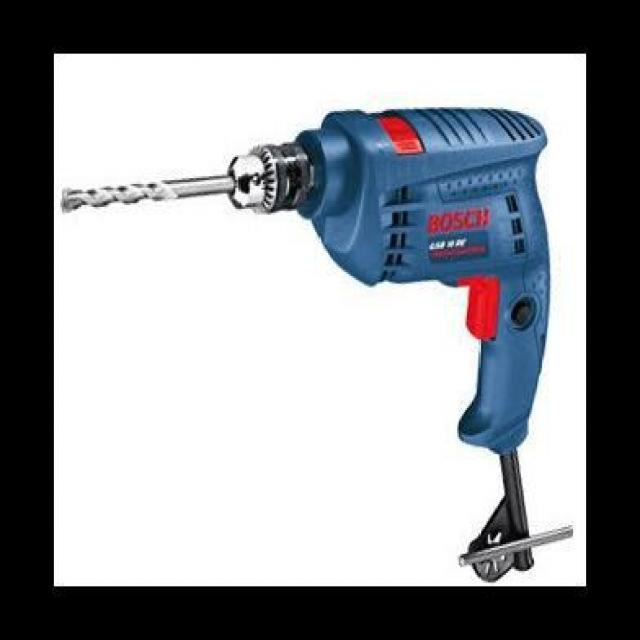drill: (60, 107, 572, 586)
